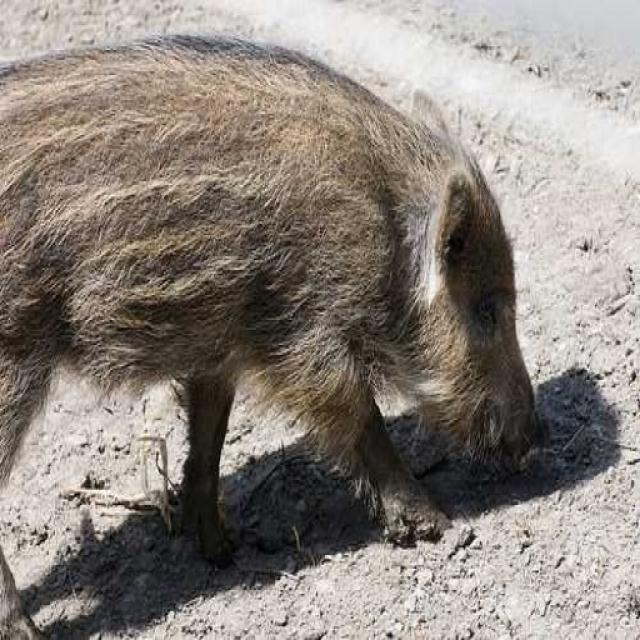pig: (0, 7, 573, 637)
